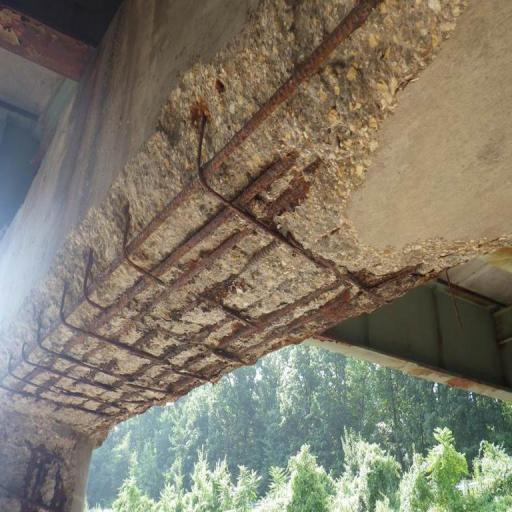spalling: (0, 0, 511, 438)
